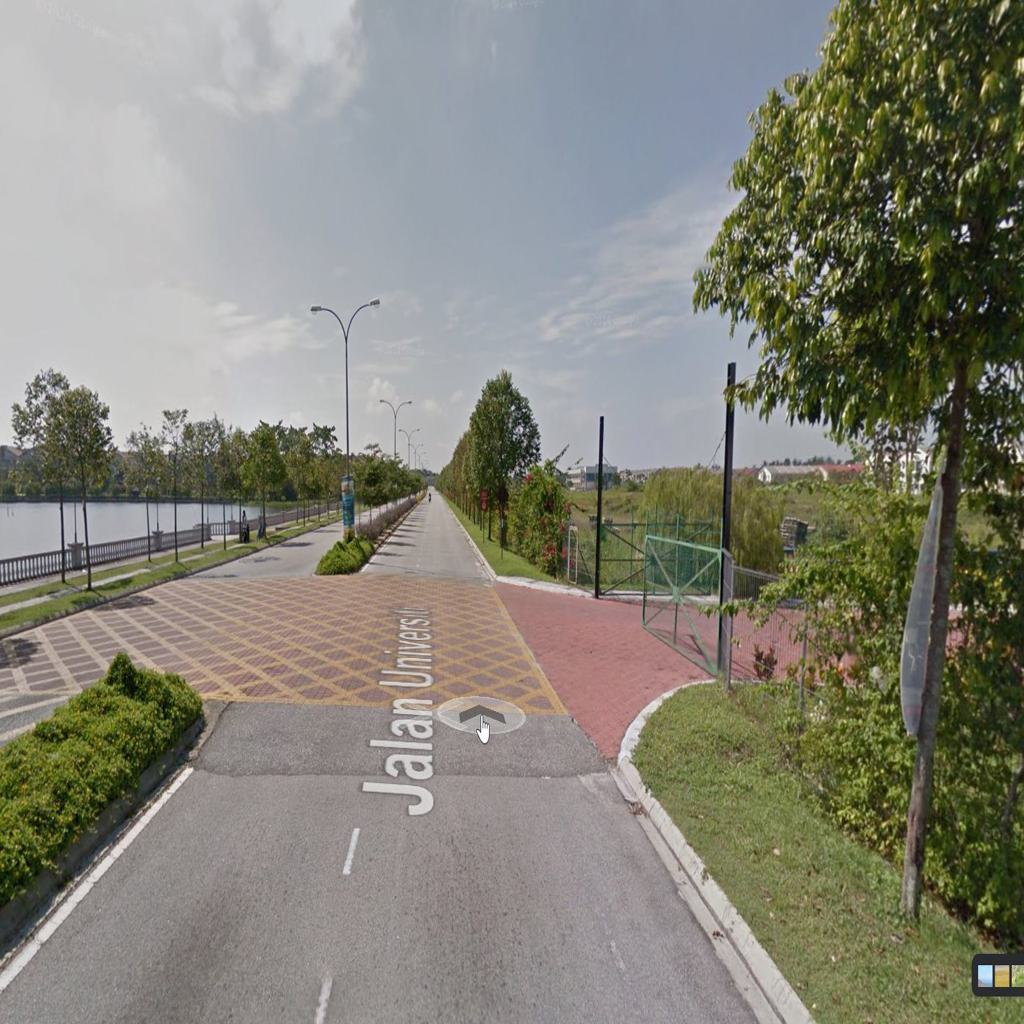Junction: (472, 547, 718, 781)
